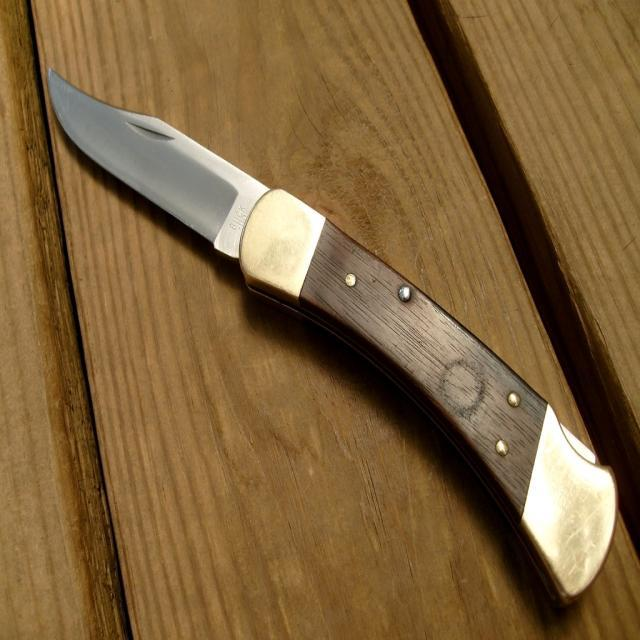Knife: (49, 71, 616, 601)
